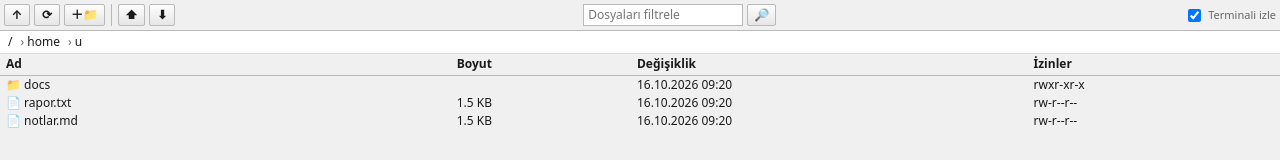
Test case: double clicking a folder enters it and the breadcrumb follows; up goes back
Double-click the text "docs".
double_click(15, 84)  # box [0, 75, 451, 94]
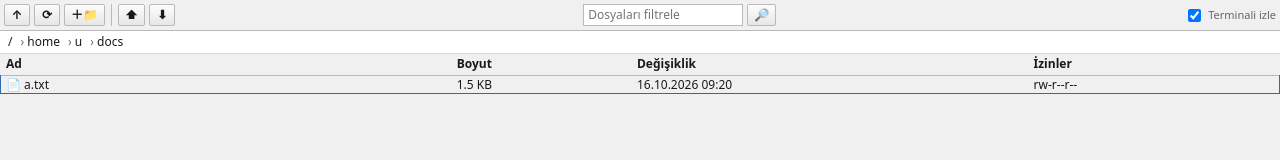
Expected: the button "docs" is shown, [86, 33, 127, 51]
Now the text "a.txt" is shown, box [24, 76, 49, 93]
Click the button named "Üst klasör".
click(17, 15)  # box [4, 4, 30, 26]
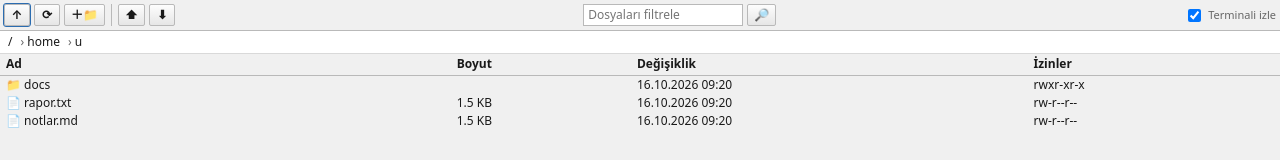
Now the text "rapor.txt" is shown, box [24, 94, 72, 111]
